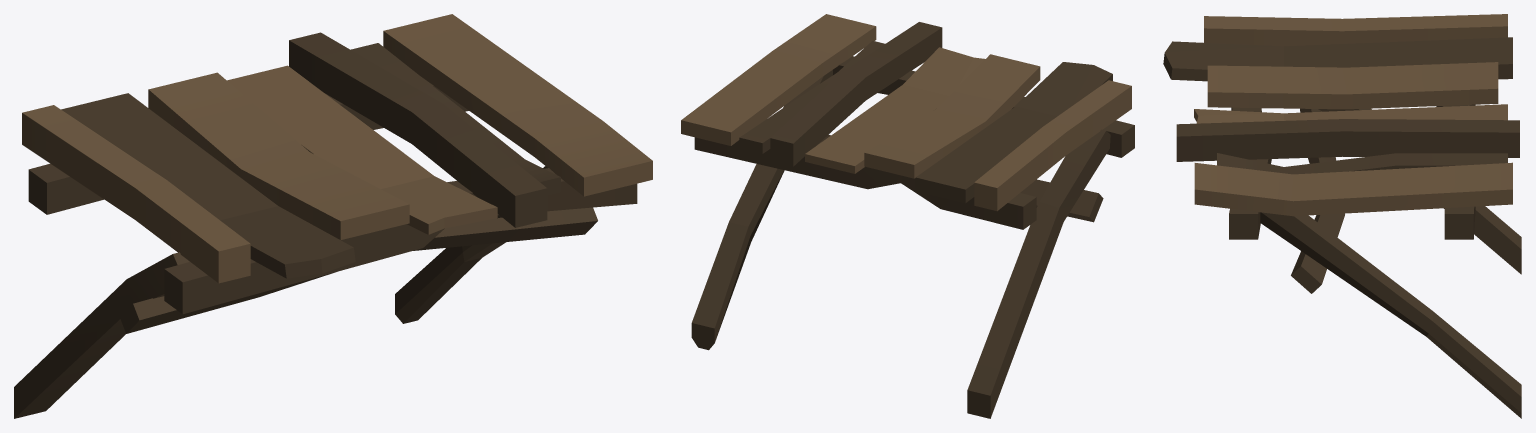
File: SM_Prop_Window_Top_01.glb
The picture shows the model from 3 angles, left to right: view 1: azimuth 30°, elevation 25°; view 2: azimuth 150°, elevation 25°; view 3: azimuth 270°, elevation 25°; orthographic projection. The views are drawn at different scales.
Parts seen in each view (by area): view 1: SM_Prop_Window_Top_01; view 2: SM_Prop_Window_Top_01; view 3: SM_Prop_Window_Top_01.
Part boxes in pixels (x1,y1,x2,y2): SM_Prop_Window_Top_01: (14,14,652,418); SM_Prop_Window_Top_01: (681,14,1134,418); SM_Prop_Window_Top_01: (1163,14,1521,418).
Bounding box in the file's own units: 0.0191 × 0.0127 × 0.0162.
